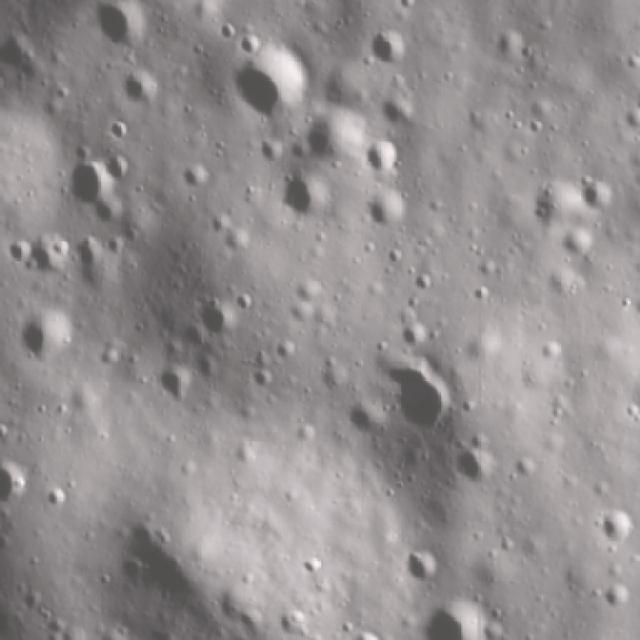crater: (223, 38, 306, 119), (379, 364, 459, 433), (291, 106, 357, 162), (15, 310, 81, 365), (88, 2, 148, 55), (7, 231, 67, 284), (418, 597, 489, 640), (442, 446, 502, 492), (58, 158, 110, 211), (280, 172, 329, 223), (398, 542, 444, 590), (191, 299, 243, 341), (575, 168, 616, 221), (363, 186, 409, 232), (114, 62, 160, 107), (148, 364, 194, 408), (597, 500, 635, 549), (344, 397, 384, 441), (368, 27, 410, 65), (362, 137, 401, 175), (375, 96, 416, 130), (597, 578, 635, 614), (557, 227, 594, 258), (91, 197, 127, 228), (100, 150, 134, 182), (399, 317, 430, 352), (293, 551, 325, 577), (40, 486, 68, 512), (236, 32, 261, 54)
